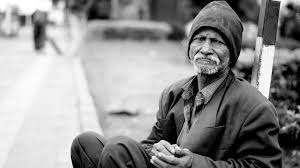no-mask: (184, 7, 241, 81)
